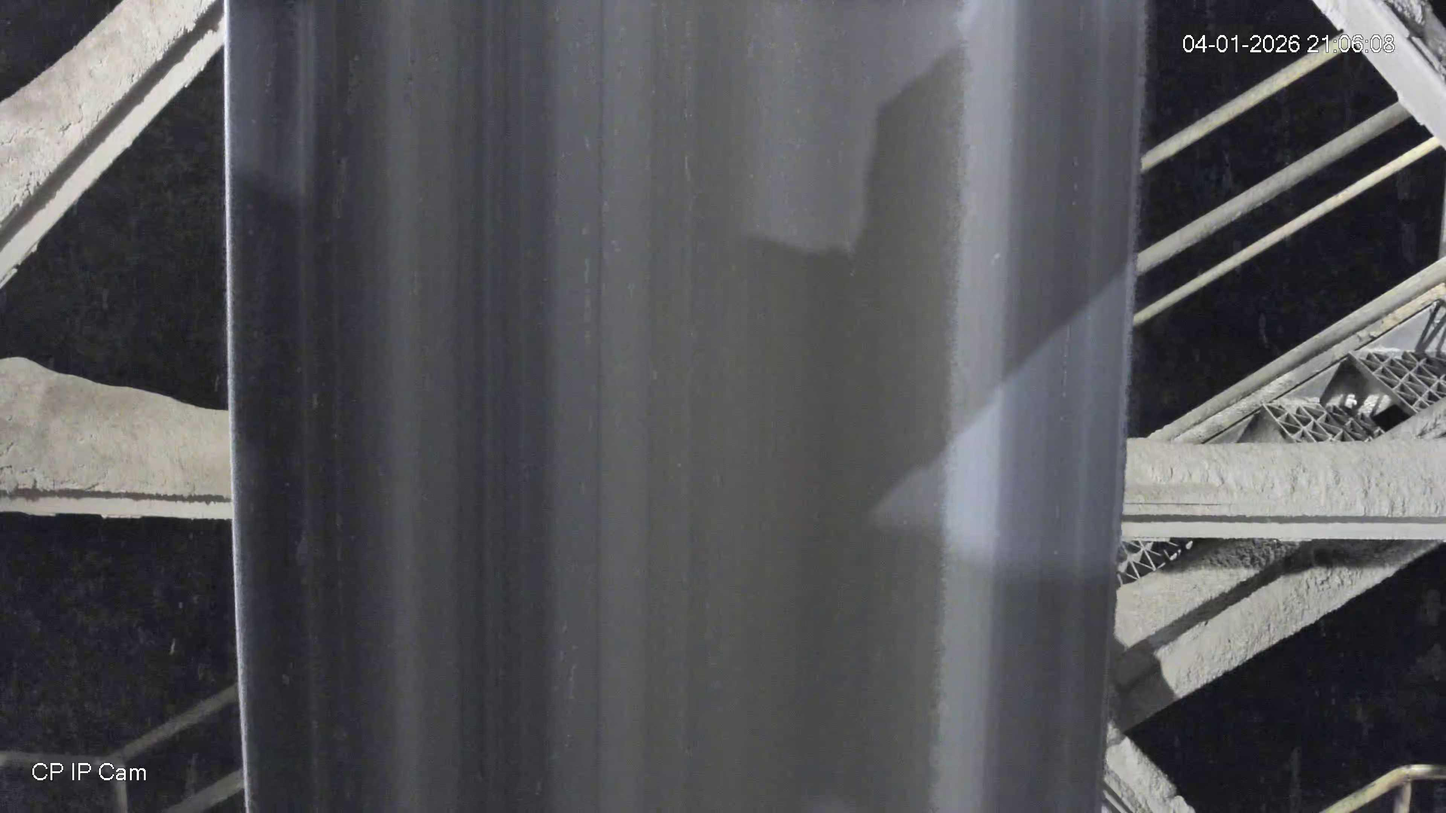belt_roi: (225, 0, 1149, 813)
